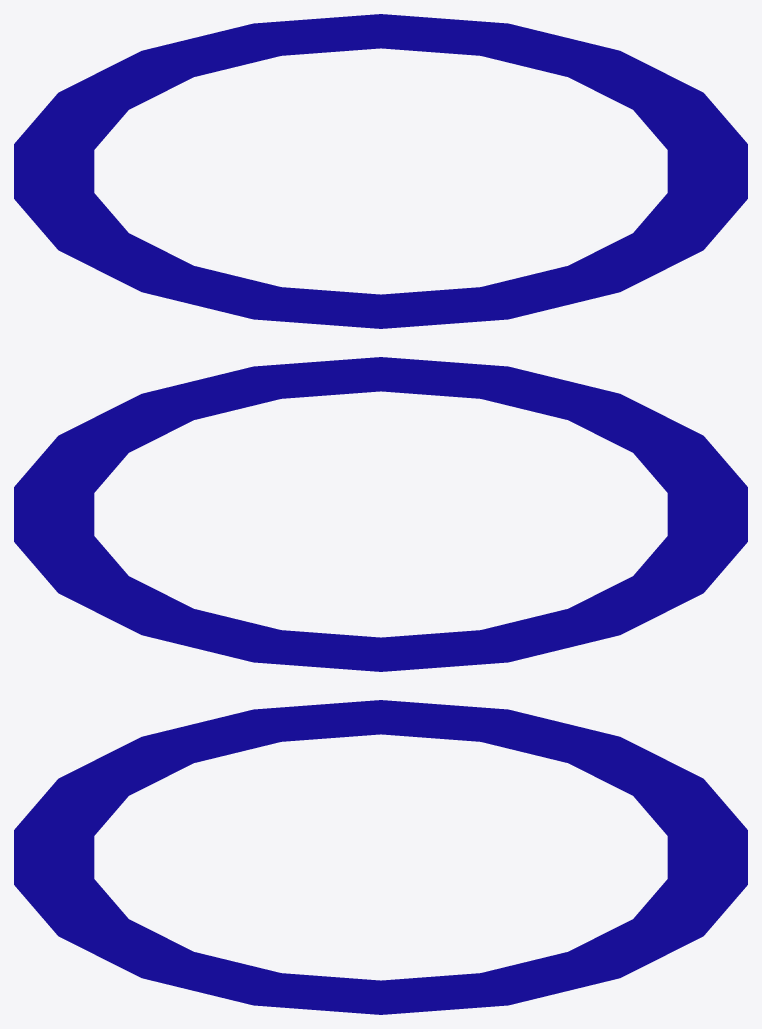
The model's file is Ring.FBX.
The picture shows the model from 3 angles, top to bottom: view 1: azimuth 30°, elevation 25°; view 2: azimuth 150°, elevation 25°; view 3: azimuth 270°, elevation 25°; orthographic projection.
Parts seen in each view (by area): view 1: Cylinder002; view 2: Cylinder002; view 3: Cylinder002.
Part boxes in pixels (<box>): Cylinder002: <box>14,14,747,328</box>; Cylinder002: <box>14,357,747,671</box>; Cylinder002: <box>14,700,747,1014</box>.
Bounding box in the file's own units: 40 × 2.41e-15 × 39.39.
